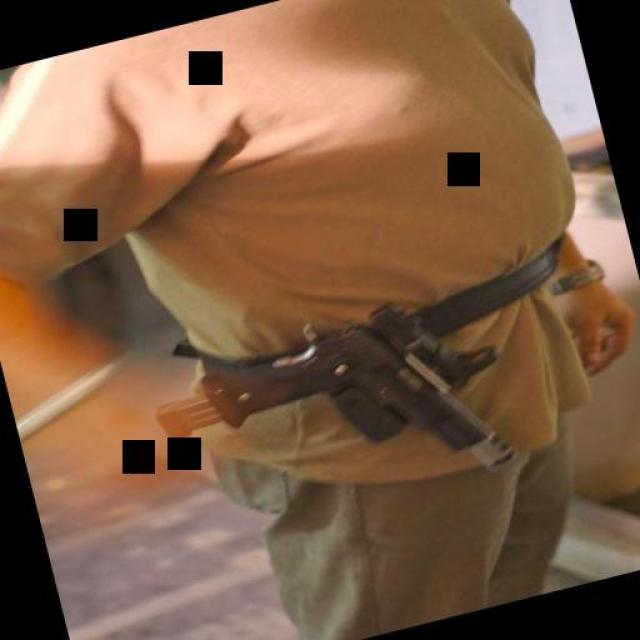gun: (135, 284, 521, 551)
